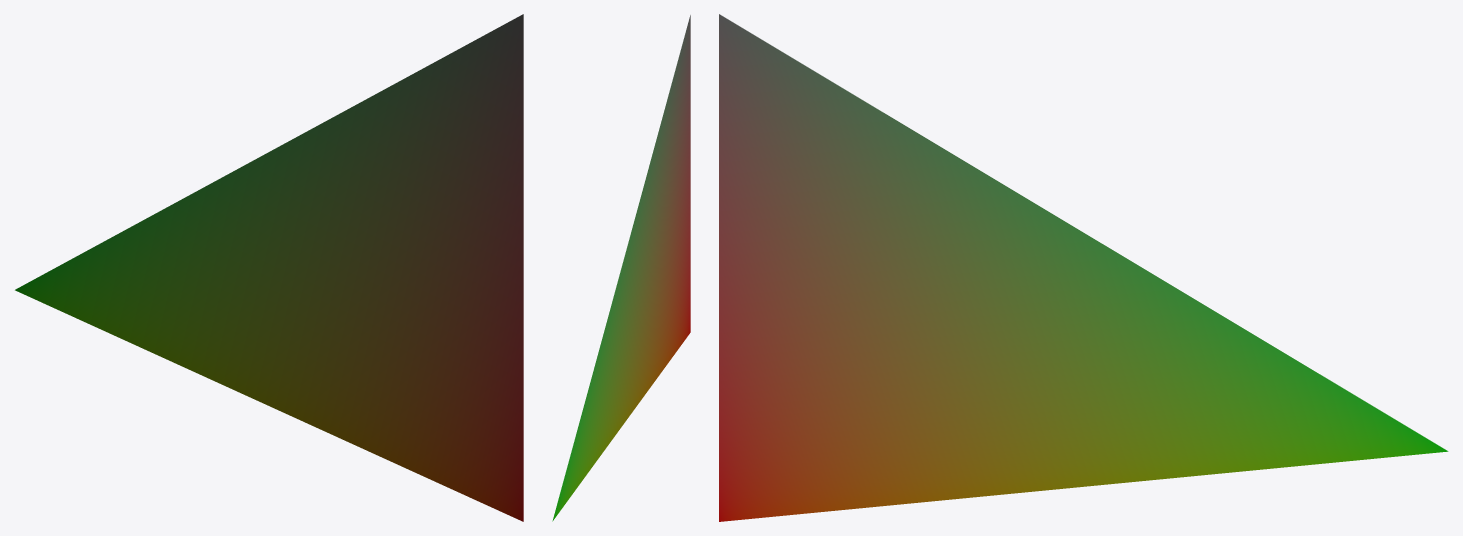
File: start_border_patch_11.obj
3 views of the same model, side by side, from view 1: azimuth 30°, elevation 25°; view 2: azimuth 150°, elevation 25°; view 3: azimuth 270°, elevation 25° (orthographic). The views are drawn at different scales.
Size of the model in its own units: 0.1836 by 0.618 by 0.8046.
